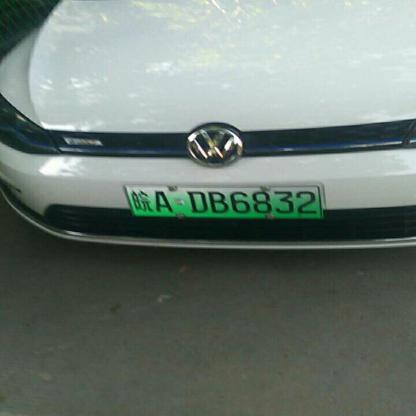lp: (125, 185, 322, 217)
